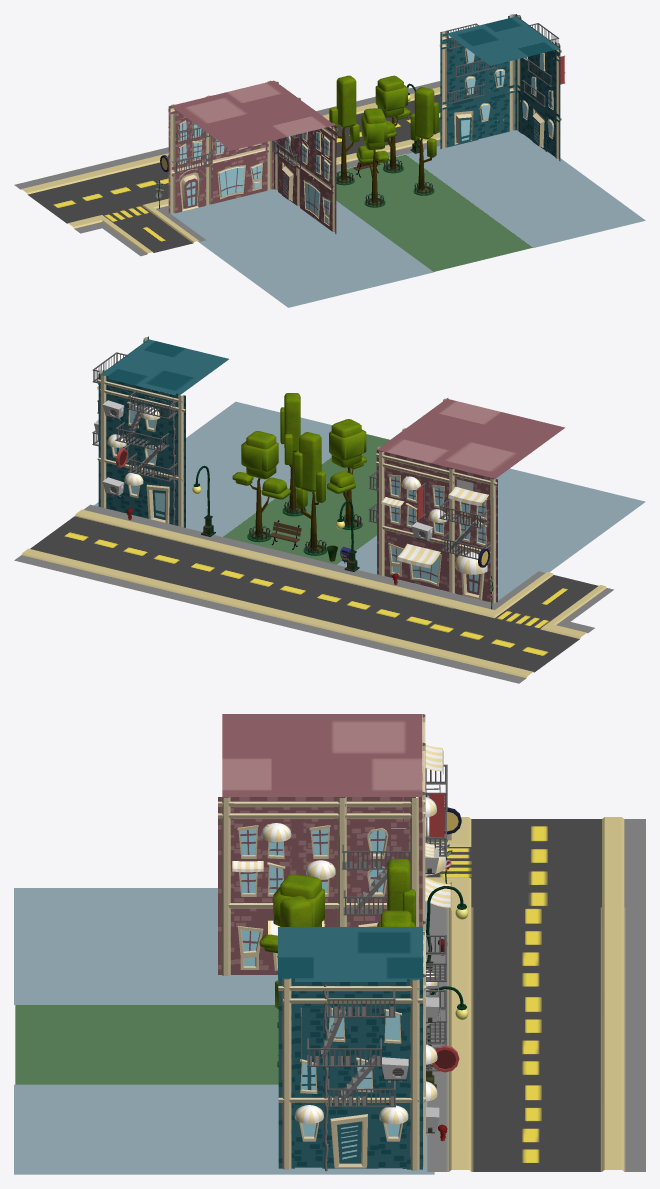
Rendered from Chunk1.fbx.
3 views of the same model, one above another, from view 1: azimuth 30°, elevation 25°; view 2: azimuth 150°, elevation 25°; view 3: azimuth 270°, elevation 25° (orthographic). The views are drawn at different scales.
Visible parts, largest first — view 1: Plane__6_, Plane__5_, Plane__7_, Route002, Mur_003__56_, Mur_003__4__1, Boutique_001__1_, feuillage2_1, Route_001, feuillage3_1, feuillage3, feuillage2 (+8 smaller); view 2: Route002, Plane__6_, Route_001__1_, Route_001, Route_001__2_, Plane__5_, Mur_003__56_, Plane__7_, Mur_003__4__1, feuillage3, Boutique_001__1_, feuillage3_1 (+11 smaller); view 3: Plane__6_, Plane__5_, Plane__7_, Route_001, Route_001__2_, Route_001__1_, Route002, Mur_003__56_, Mur_003__4__1, Porte_001_1, Boutique_001__1__1, feuillage3_1 (+20 smaller).
Boxes of the visible parts, box(x1,y1,x2,y2) form: Plane__6_: box(170, 189, 433, 307); Plane__5_: box(406, 130, 645, 247); Plane__7_: box(336, 154, 532, 271); Route002: box(14, 158, 206, 256); Mur_003__56_: box(171, 81, 334, 150); Mur_003__4__1: box(446, 16, 560, 65); Boutique_001__1_: box(213, 153, 265, 203); feuillage2_1: box(410, 87, 438, 157); Route_001: box(356, 81, 440, 152); feuillage3_1: box(356, 108, 388, 163); feuillage3: box(375, 75, 410, 137); feuillage2: box(329, 75, 359, 142); Route002: box(393, 571, 613, 683); Plane__6_: box(337, 468, 645, 600); Route_001__1_: box(141, 535, 342, 621); Route_001: box(14, 504, 216, 591); Route_001__2_: box(267, 566, 468, 652); Plane__5_: box(94, 401, 332, 536); Mur_003__56_: box(377, 398, 564, 478); Plane__7_: box(223, 434, 389, 564); Mur_003__4__1: box(101, 339, 228, 395); feuillage3: box(232, 431, 290, 499); Boutique_001__1_: box(386, 532, 447, 591); feuillage3_1: box(327, 419, 366, 493); Plane__6_: box(14, 888, 427, 1004); Plane__5_: box(14, 1084, 434, 1174); Plane__7_: box(15, 1005, 426, 1084); Route_001: box(427, 1081, 645, 1171); Route_001__2_: box(427, 905, 645, 995); Route_001__1_: box(429, 993, 645, 1083); Route002: box(425, 817, 645, 907); Mur_003__56_: box(222, 714, 422, 796); Mur_003__4__1: box(278, 927, 422, 982); Porte_001_1: box(322, 1105, 378, 1168); Boutique_001__1__1: box(234, 911, 334, 974); feuillage3_1: box(259, 874, 324, 953).
Size of the model in its own units: 2274 by 571 by 1692.
